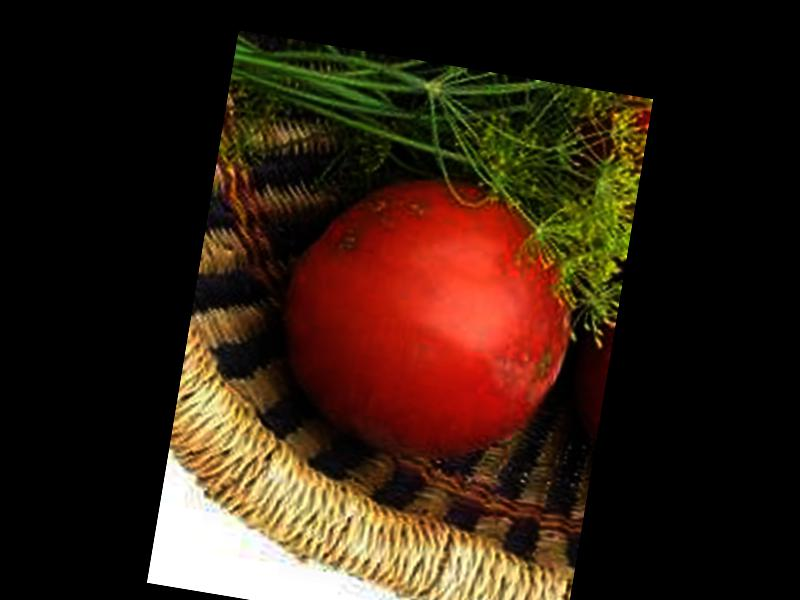Tomato: (266, 154, 593, 478)
